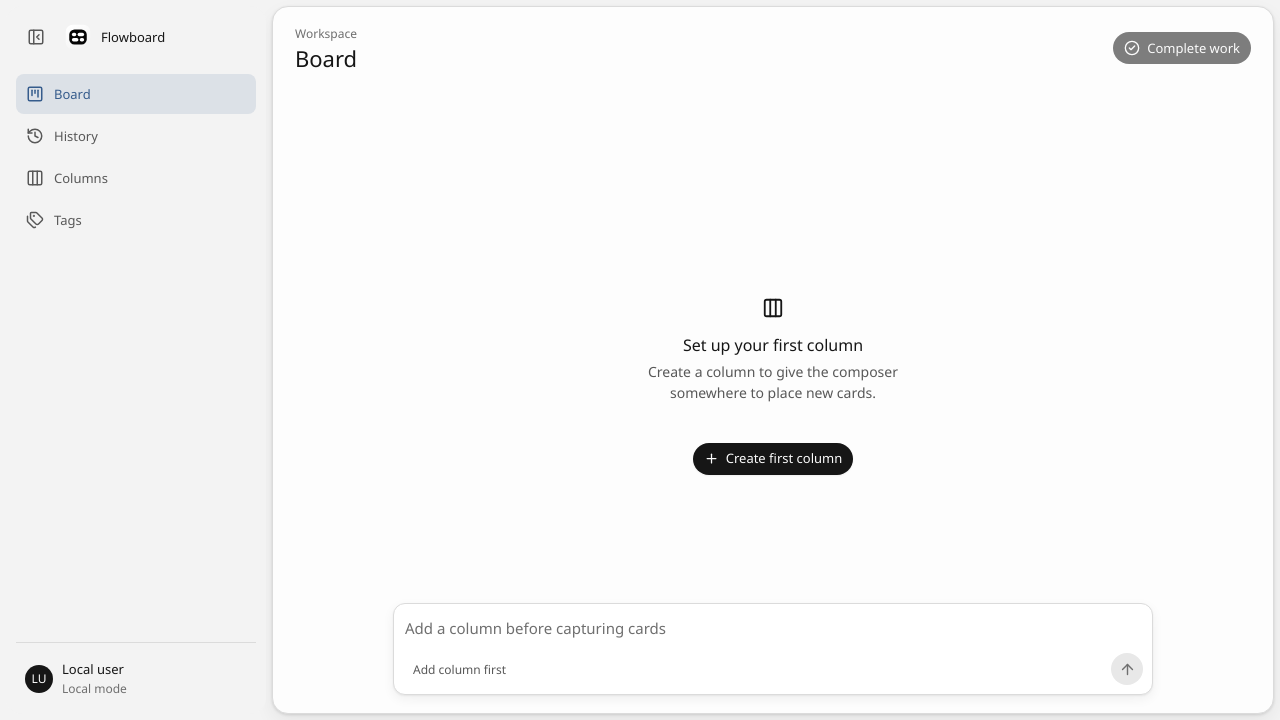
opens archived cards with metadata, rich content, and Markdown copy
Click the button "History" at (136, 136), box top-left (16, 116), bottom-right (256, 156)
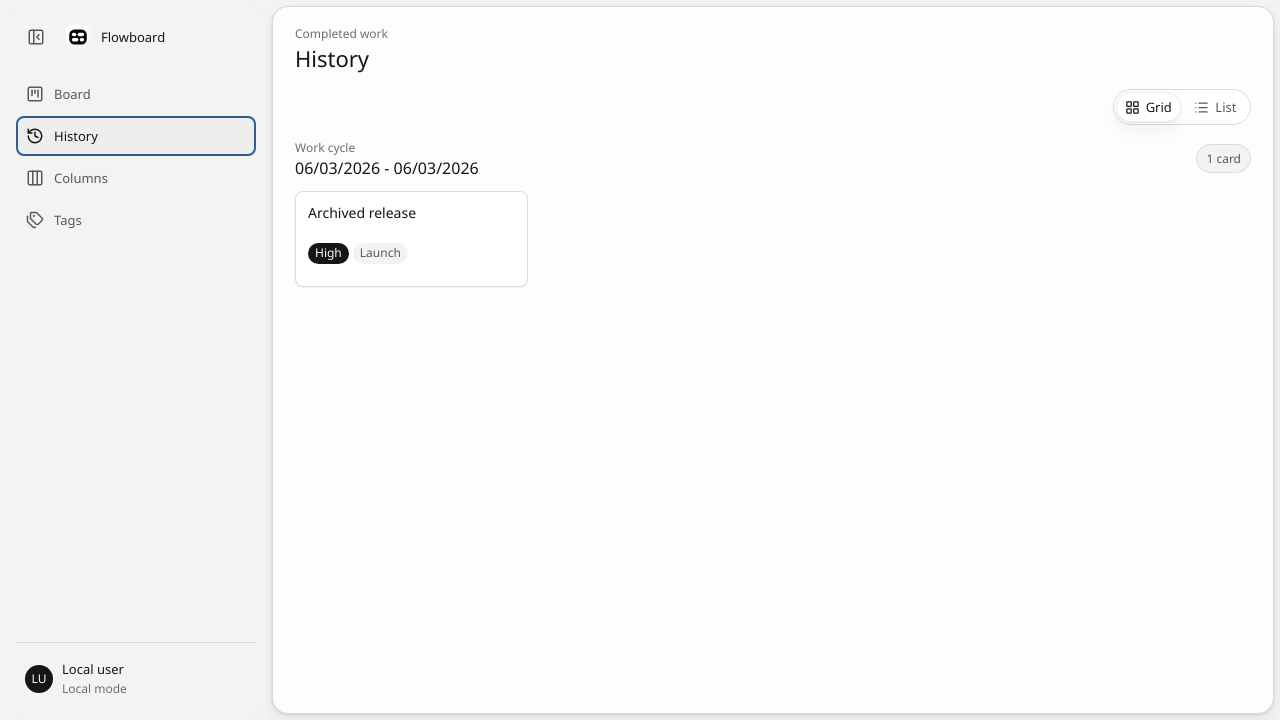
Click the text "Archived release" at (362, 212), box top-left (308, 203), bottom-right (416, 222)
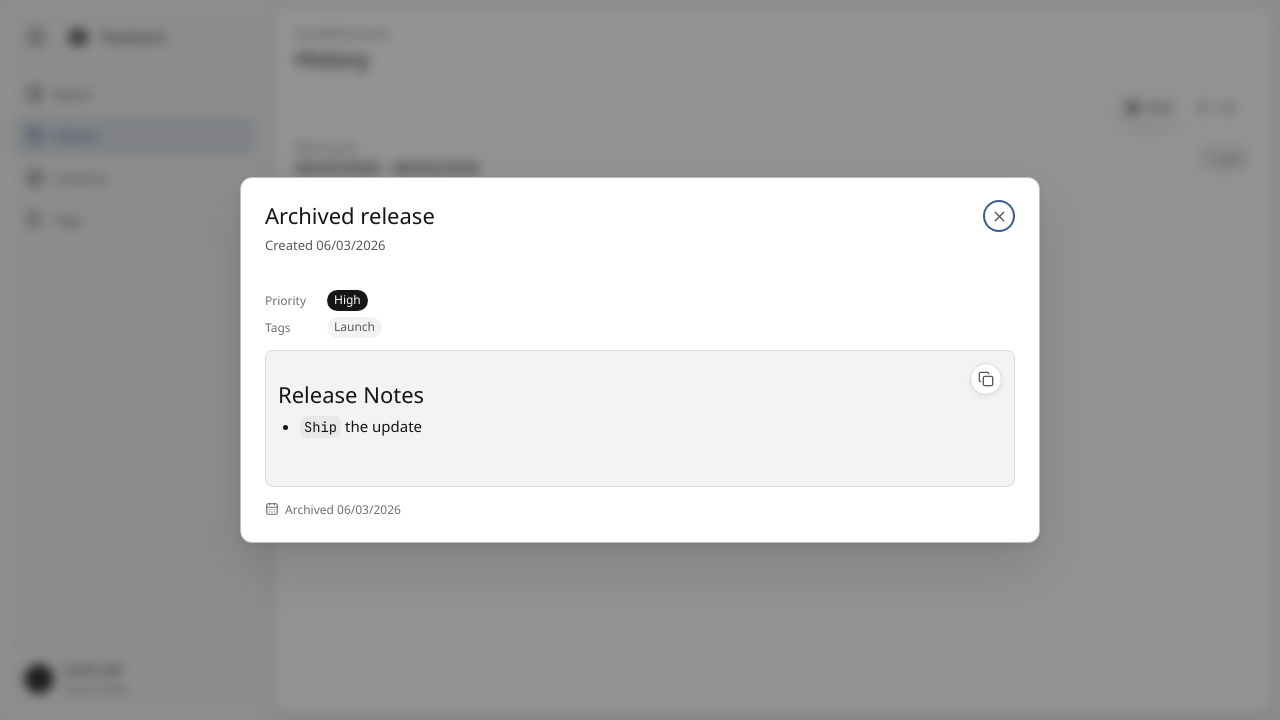
Check: the text "Created 06/03/2026" is shown, box top-left (265, 236), bottom-right (386, 254)
Check: the text "Archived 06/03/2026" is shown, box top-left (285, 501), bottom-right (401, 518)
Check: the text "Priority" is shown, box top-left (265, 292), bottom-right (306, 309)
Hover over the button named "copy markdown" at (986, 379), box top-left (970, 363), bottom-right (1002, 395)
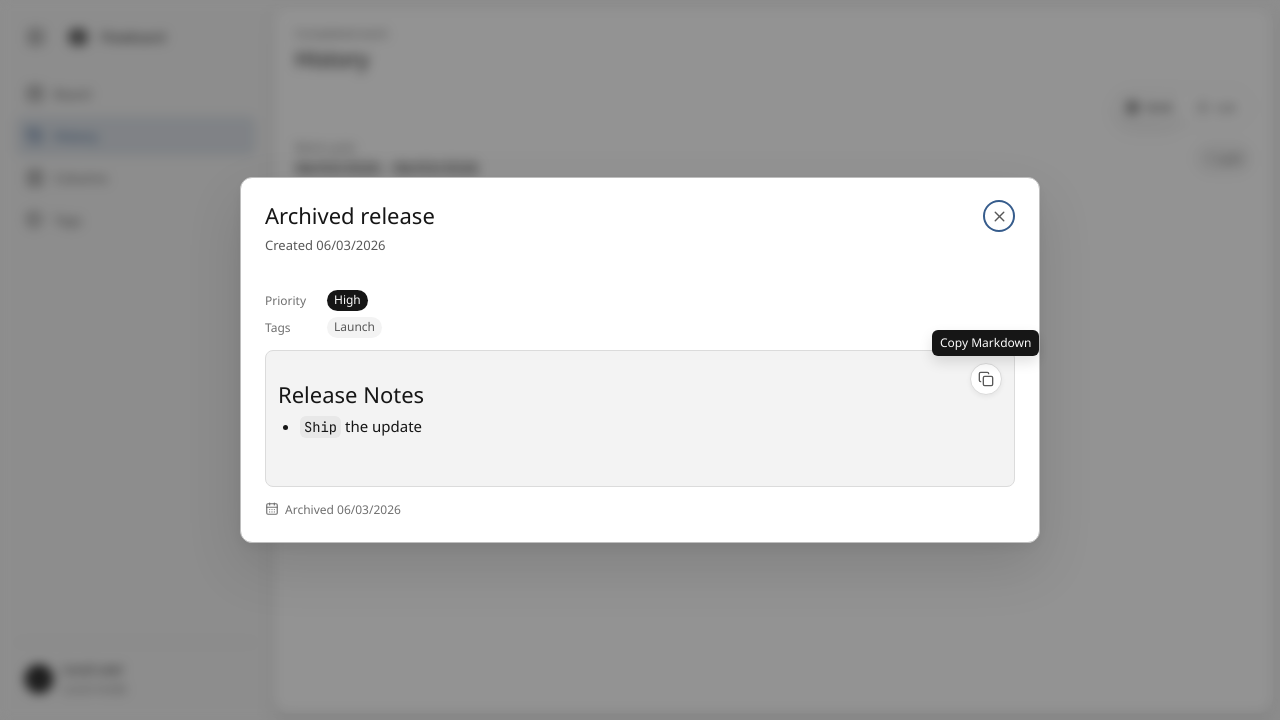
Check: the text "Copy Markdown" is shown, box top-left (940, 334), bottom-right (1032, 351)
Click the button named "copy markdown" at (986, 379), box top-left (970, 363), bottom-right (1002, 395)
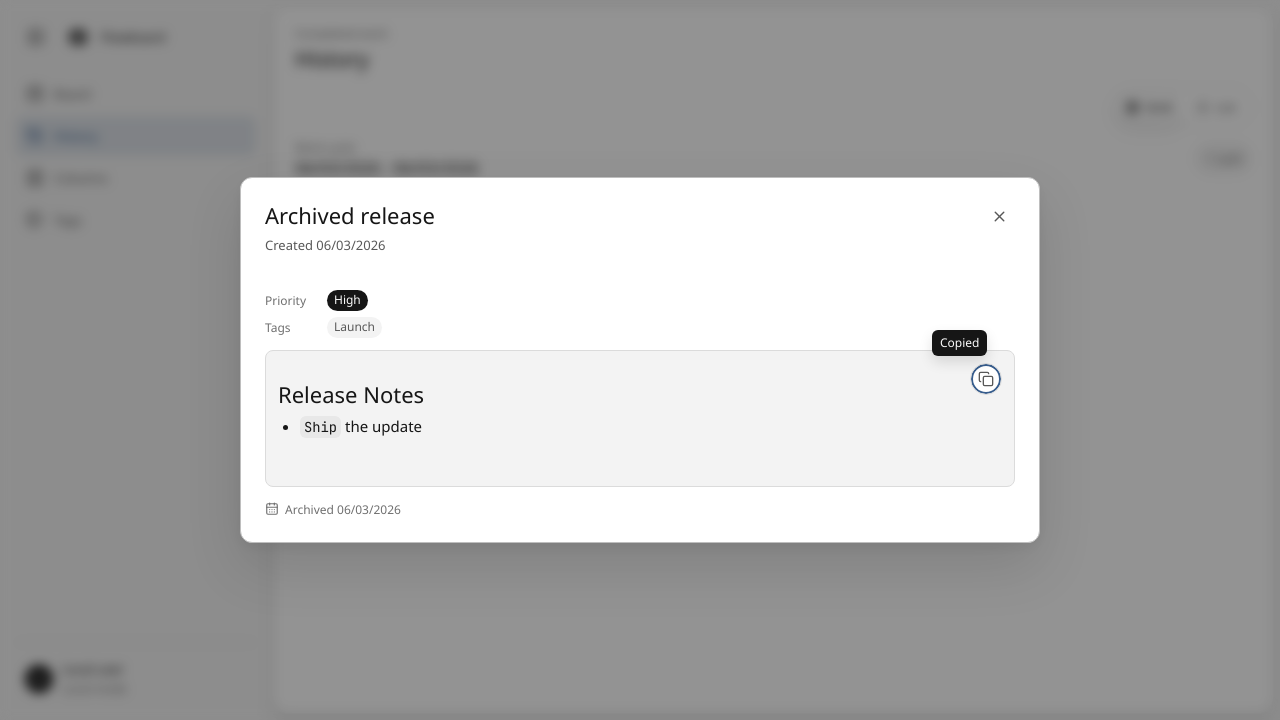
Check: the text "Copy Markdown" reads "Copied", box top-left (940, 334), bottom-right (980, 351)
